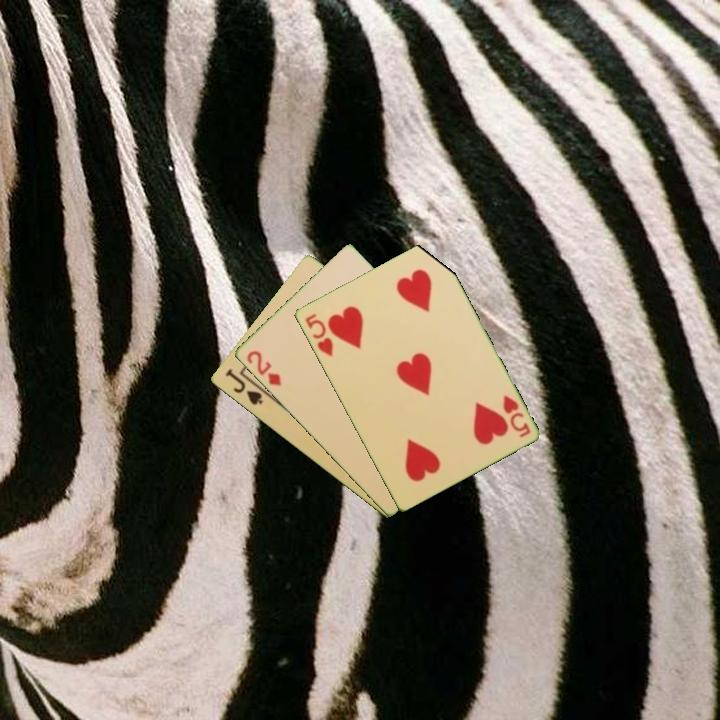2d: (243, 347, 284, 389)
5h: (301, 310, 336, 359), (499, 391, 533, 441)
Js: (221, 365, 266, 408)
